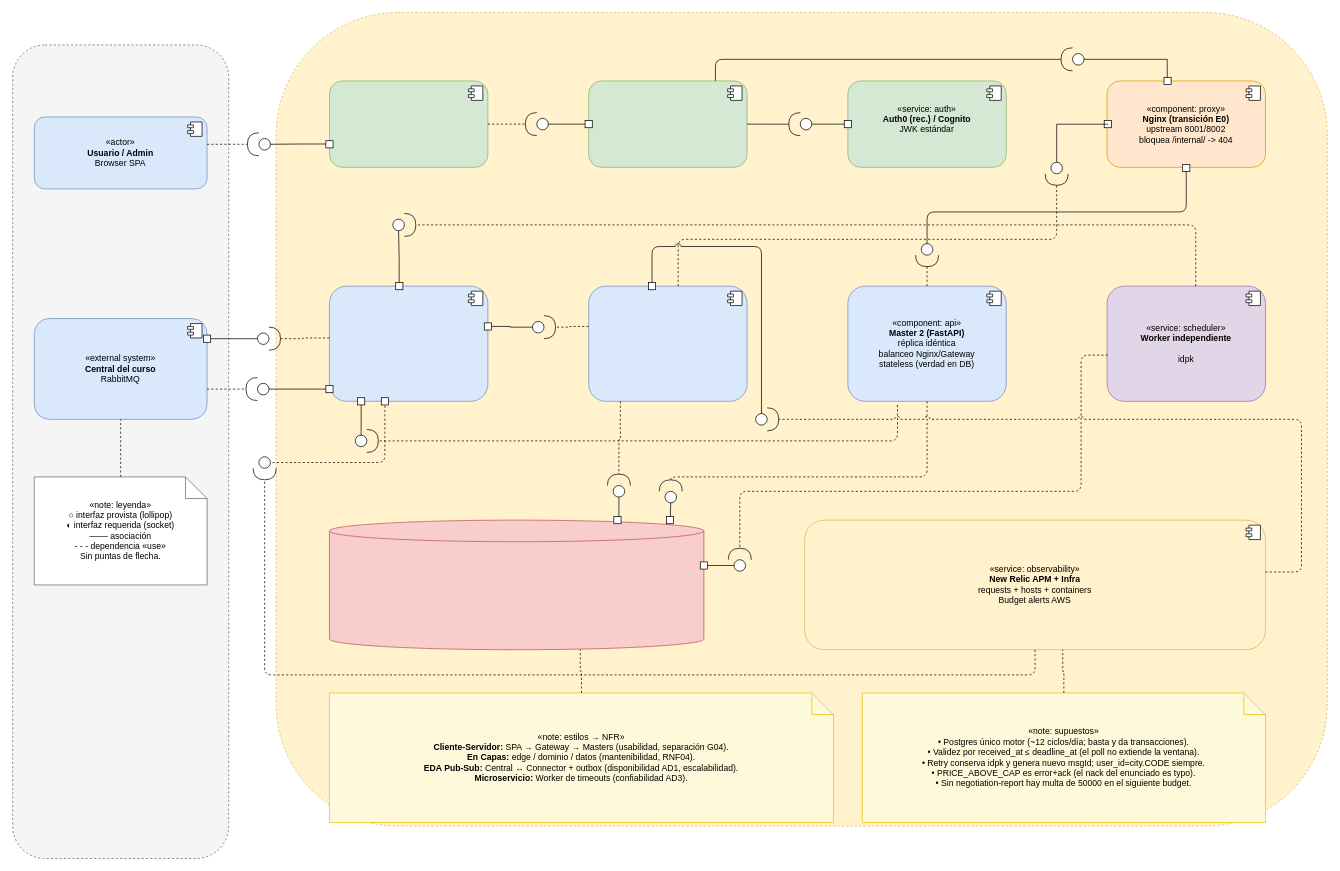
Some shapes in this 1340 by 871 pixel diagram are drawn without their labels. Here are the shapes that lost their labels. From the top down, the centre of each, then its label:
[408,123]: «component: SPA» CloudFront + S3 Frontend SPA (React/Vue)
[667,123]: «component: gateway» API Gateway api.* + CORS custom authorizer
[408,343]: «component: consumer» Connector (aio-pika)
[667,343]: «component: api» Master 1 (FastAPI) API + dominio
[516,584]: «database» PostgreSQL
